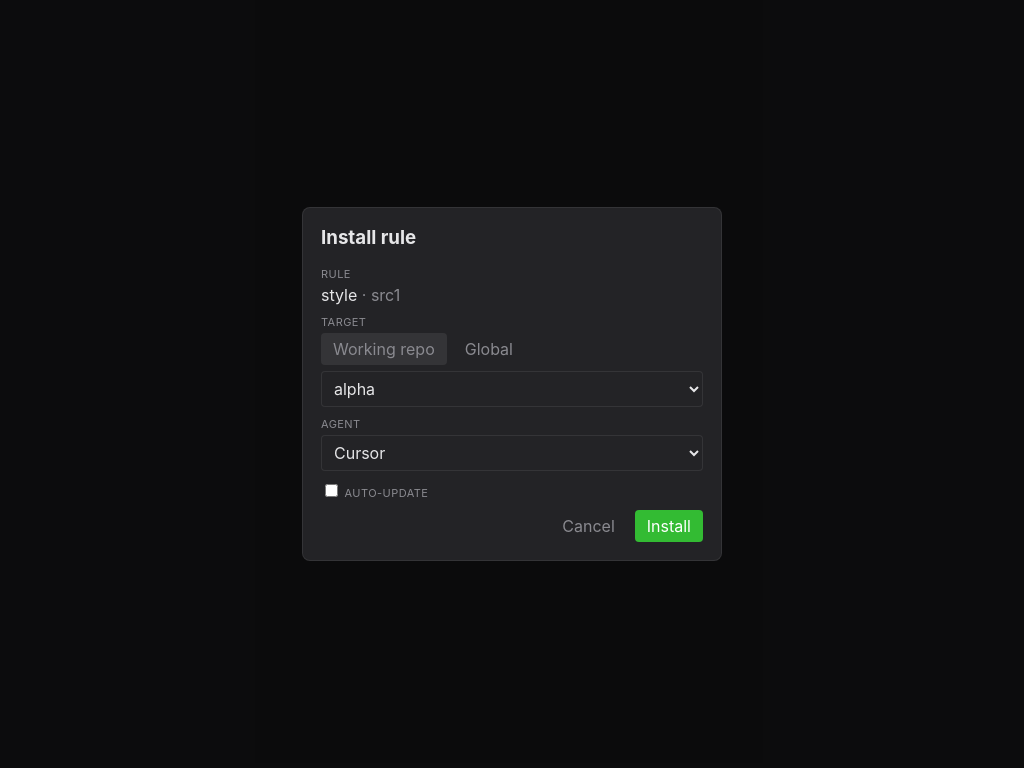
Scenario: InstallModal — rules › disables Cursor and falls back to Claude Code when scope is global
The width and height of the screenshot is (1024, 768).
Expected: the dropdown named "Agent" shows "Cursor", [321, 435, 703, 471]
Step 1. Click the button "Global" → click(489, 349), box [453, 333, 525, 365]
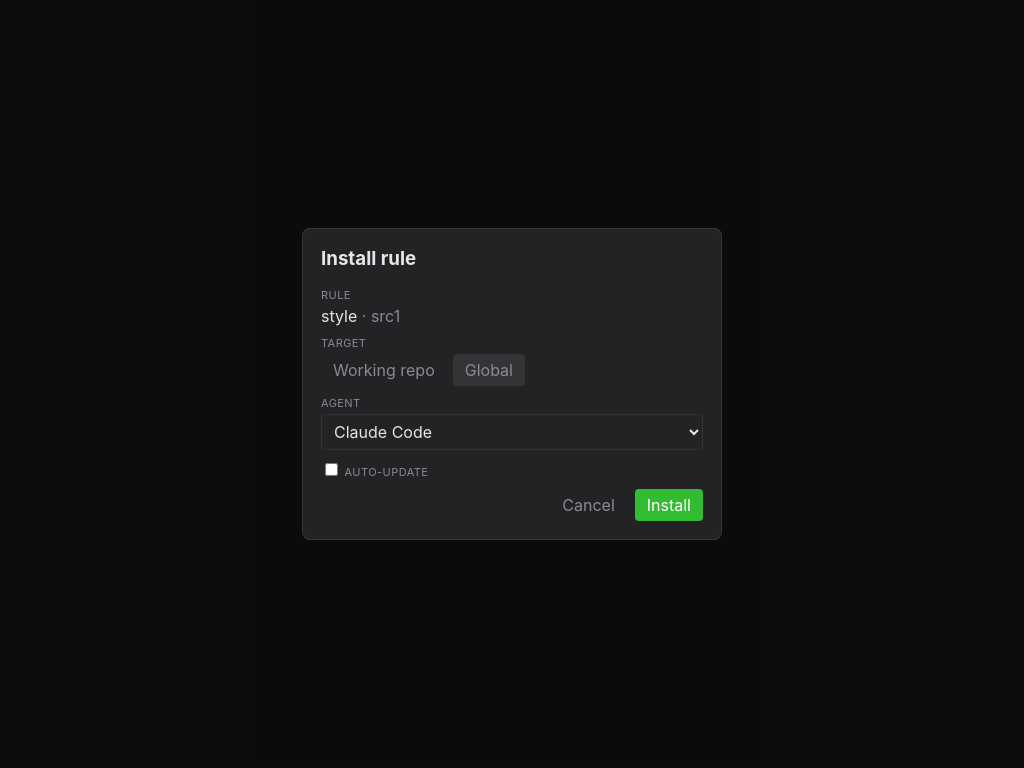
Result: the dropdown named "Agent" shows "Claude Code" at [321, 414, 703, 450]
